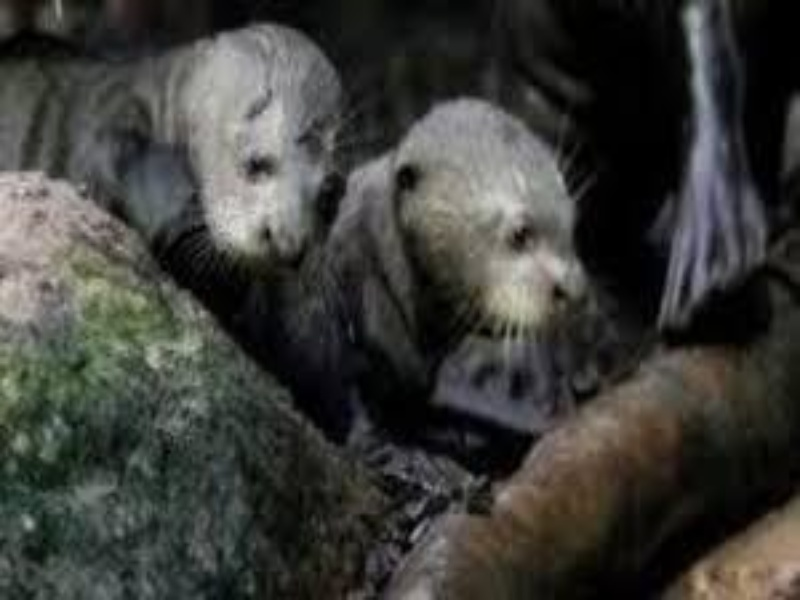minkish: (155, 98, 607, 461), (1, 22, 347, 265)
